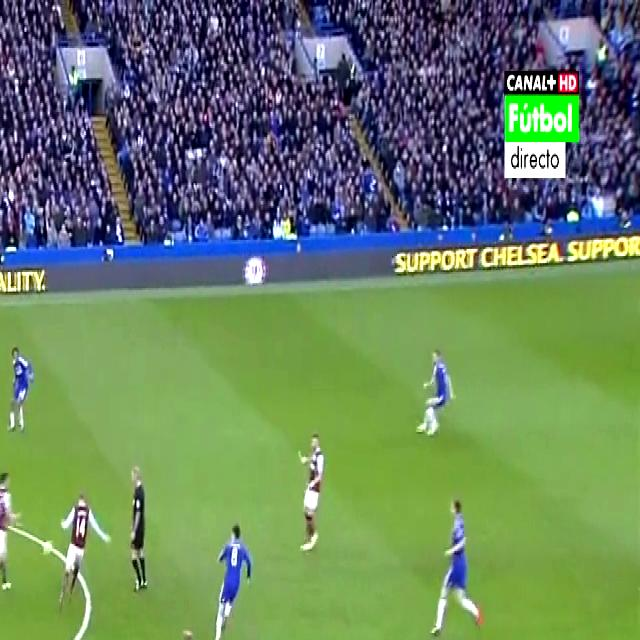ball: (40, 531, 53, 559)
referee: (119, 452, 152, 596)
soccer-player: (429, 486, 489, 634), (63, 482, 110, 610), (211, 512, 256, 640), (288, 427, 330, 557), (417, 330, 460, 448), (0, 446, 23, 608), (4, 332, 39, 432), (171, 624, 212, 640)
